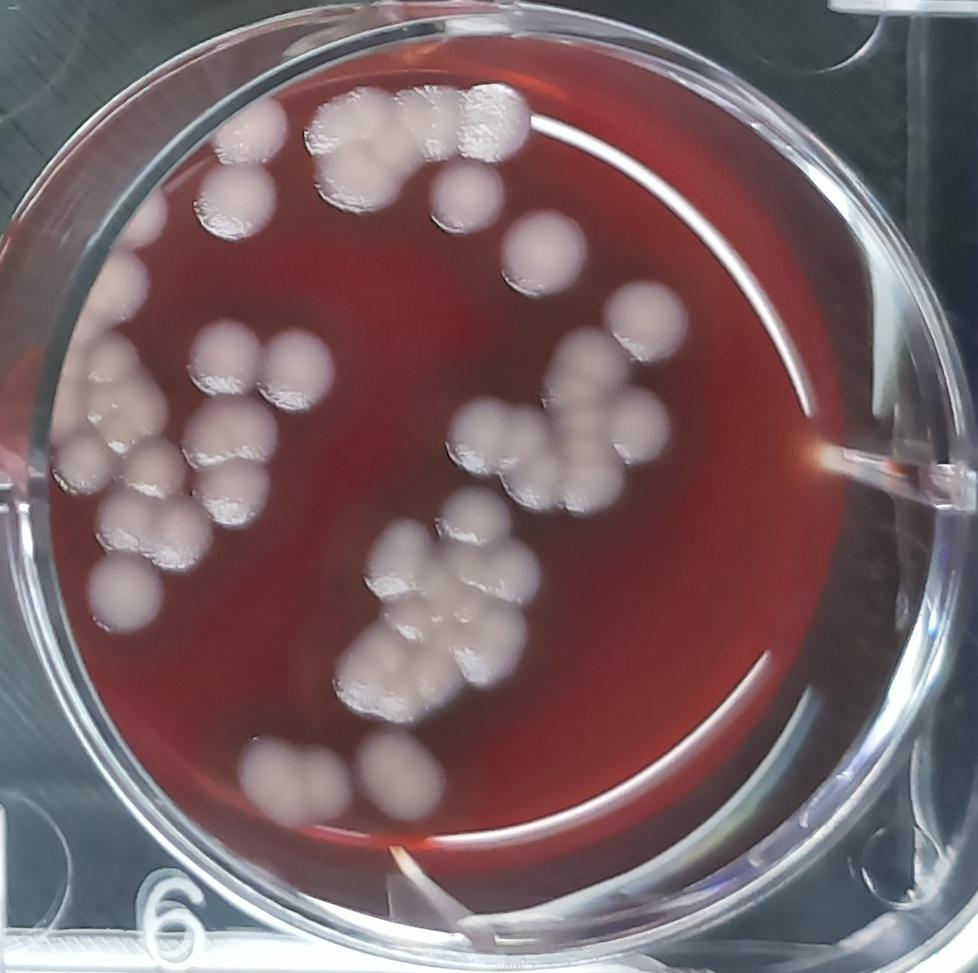bcereus: (491, 193, 594, 311), (598, 261, 701, 368)
